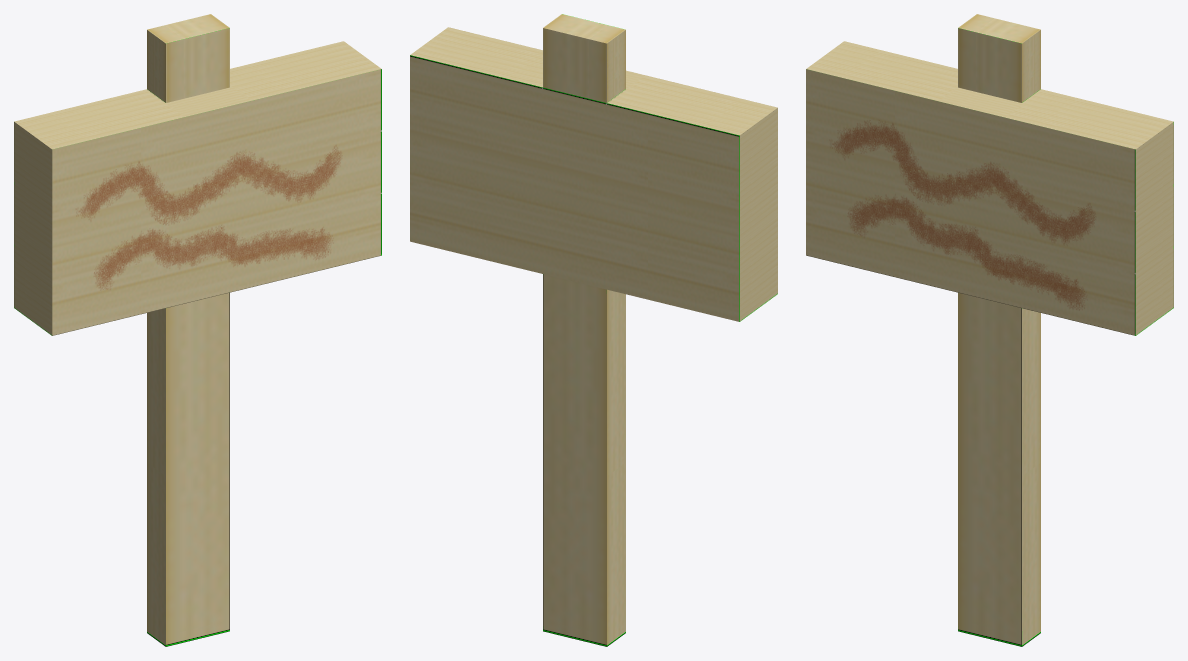
Rendered from Kanban_01.FBX.
The picture shows the model from 3 angles, left to right: view 1: azimuth 30°, elevation 25°; view 2: azimuth 150°, elevation 25°; view 3: azimuth 330°, elevation 25°; orthographic projection.
Visible parts, largest first — view 1: Box007; view 2: Box007; view 3: Box007.
Boxes of the visible parts, left/top/right/bottom form: Box007: left=14, top=14, right=381, bottom=646; Box007: left=410, top=14, right=777, bottom=646; Box007: left=806, top=14, right=1173, bottom=646.
Size of the model in its own units: 97.18 by 170 by 19.47.
Materials: 1 (1 with a texture image).
